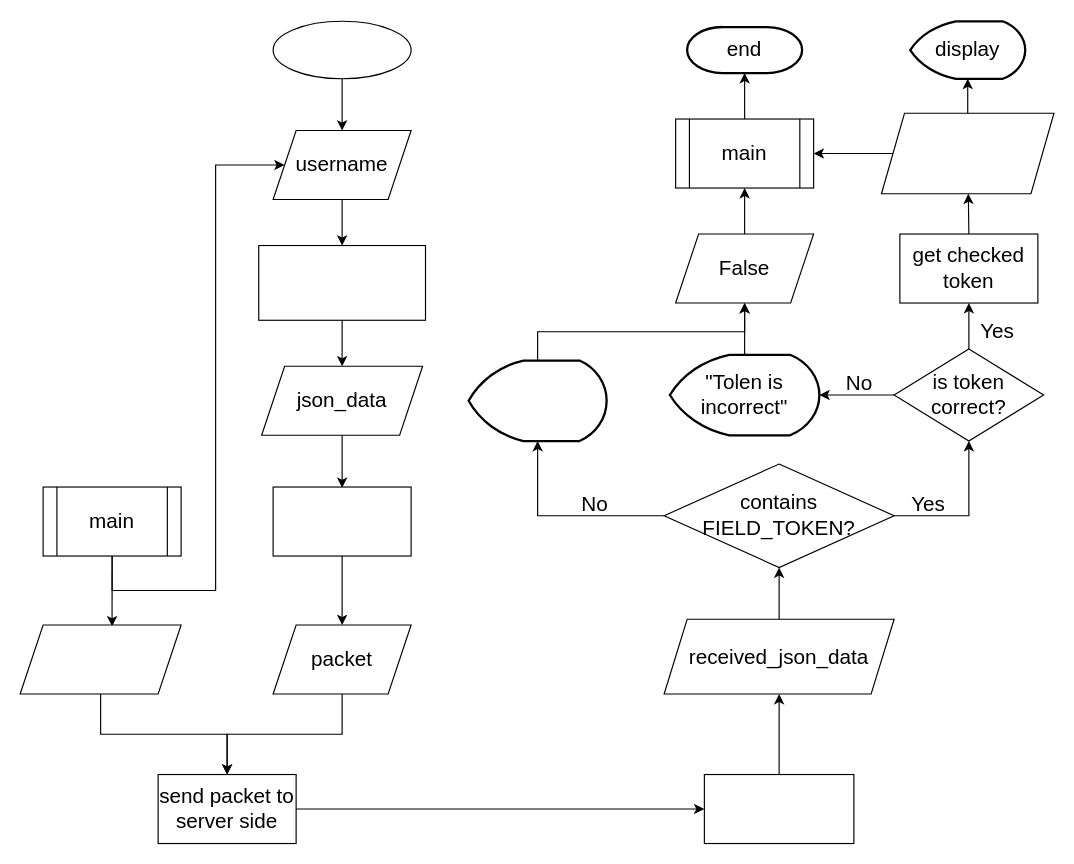
Image size: 1074x864. Some labels were removed from this diagram. The centre of each missing label's shape, as x and y in pixels:
"Fail to get token": pixel 537 400
checked_token: pixel 967 153
clientSocket: pixel 100 659
get tcp packet from sever side: pixel 778 808
make json_data in dictionary form: pixel 341 282
make packet: pixel 341 521
start: pixel 341 49
